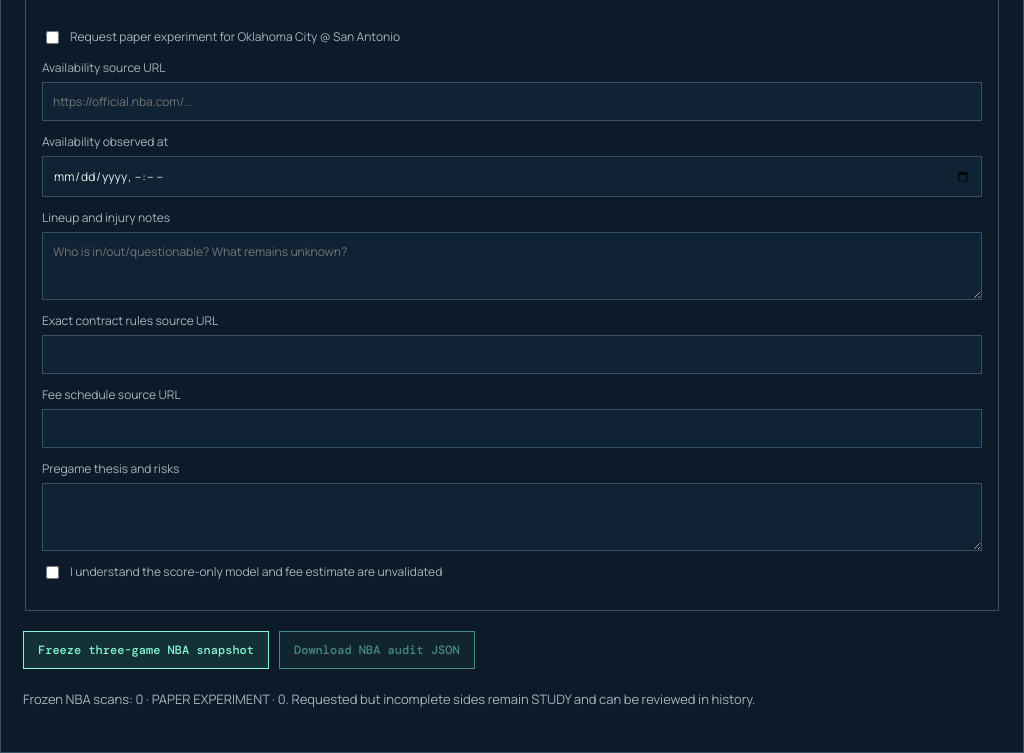
NBA opening-slate freeze UI › freezes all three study decisions with raw evidence without pretending they are bets
The image size is (1024, 753).
(page scrolled)
Click the button "Freeze three-game NBA snapshot" at (146, 650), box [23,631,269,669]
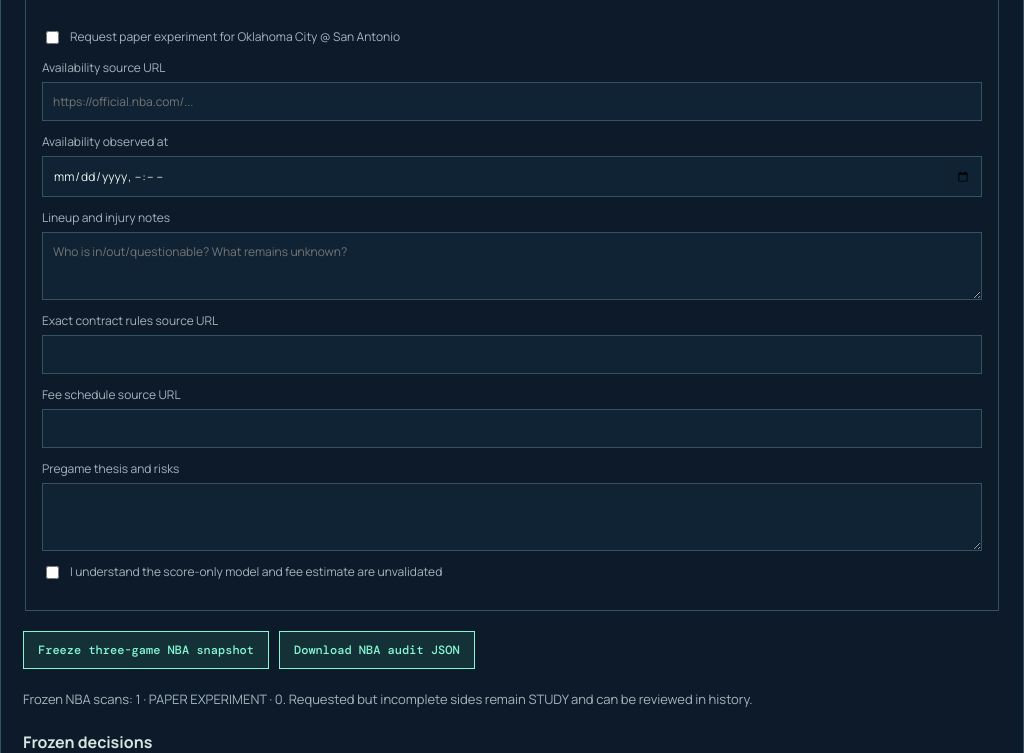
Result: the text "Frozen NBA scans: 1" is shown at [23,690,752,708]
